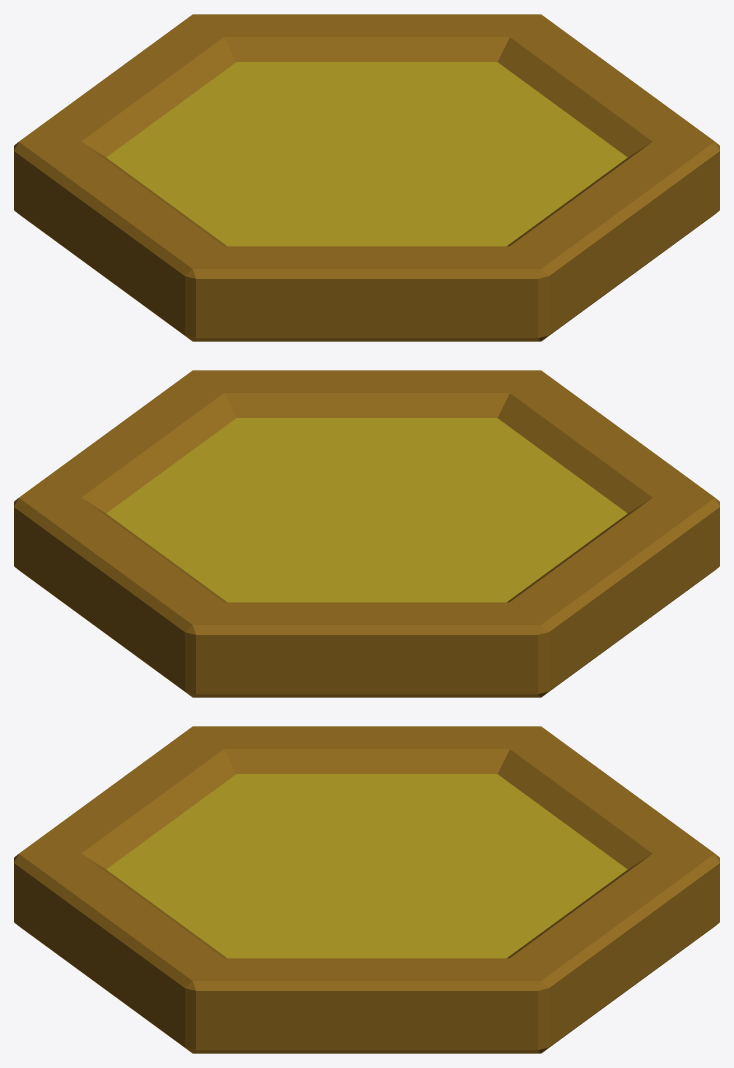
The model's file is Tile_04.fbx.
3 views of the same model, one above another, from view 1: azimuth 30°, elevation 25°; view 2: azimuth 150°, elevation 25°; view 3: azimuth 270°, elevation 25° (orthographic).
Parts seen in each view (by area): view 1: Cylinder.003; view 2: Cylinder.003; view 3: Cylinder.003.
Part boxes in pixels (x1,y1,x2,y2): Cylinder.003: [14, 14, 719, 341]; Cylinder.003: [14, 370, 719, 697]; Cylinder.003: [14, 726, 719, 1053].
Size of the model in its own units: 329 by 42.72 by 376.
